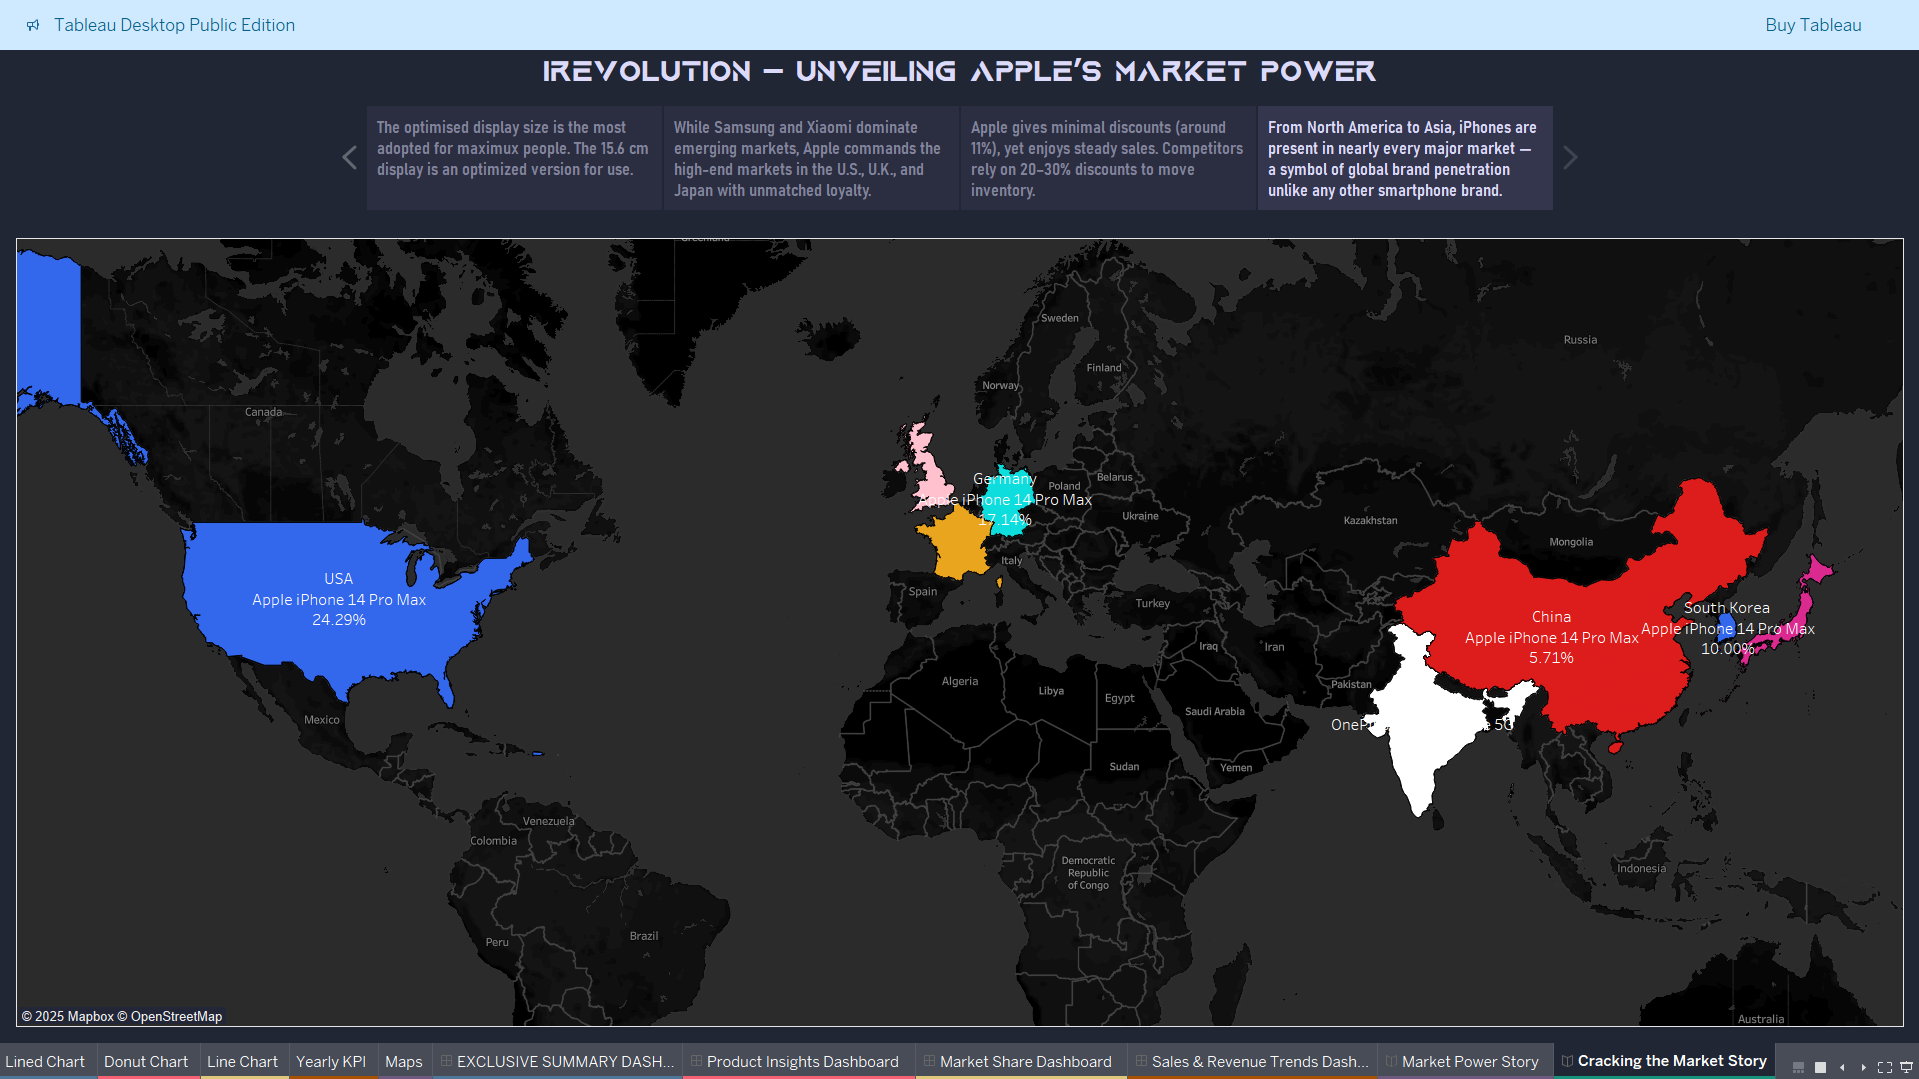

Layout of this report page (visuals, bound fields, positions):
{"tool":"tableau","page":{"name":"Market Share Dashboard","canvas":[1000,1000],"units":"permille","ordinal":1},"visuals":[{"type":"image","param":"Image/apple-logo-silver-gradient-background-ucqyu9mach40quya.png","box":[6.2,11.6,48,79]},{"type":"text","box":[56.6,12.8,947.7,81.3]},{"type":"filter","title":"Lined Chart","param":"[federated.1gce9tv0aggmgg1erib5s148nrbe].[none:Country:nk]","box":[796.3,73.2,99.4,62.7]},{"type":"filter","title":"Lined Chart","param":"[federated.1gce9tv0aggmgg1erib5s148nrbe].[none:Models:nk]","box":[897.5,76.7,99.4,58.1]},{"type":"worksheet","title":"Lined Chart","mark":"Automatic","rows":["Sales Share","Sales Share"],"cols":["Country","Models"],"box":[11.8,98.7,986.4,426.2]},{"type":"worksheet","title":"Maps","mark":"Multipolygon","box":[11.2,528.5,618.6,466.9]},{"type":"worksheet","title":"Bubble Chart","mark":"Circle","box":[635.4,538.9,359,457.6]}]}

Visuals, with their boxes on the dashboard's canvas, which has no fixed pixel size, in thousandths of its width and height (x1, y1, x2, y2). These are canvas units, not pixel positions in the 1919x1079 screenshot, which may show the page scaled, cropped or inside an application window:
image: l=6, t=12, r=54, b=91
text: l=57, t=13, r=1004, b=94
"Lined Chart" filter: l=796, t=73, r=896, b=136
"Lined Chart" filter: l=898, t=77, r=997, b=135
"Lined Chart" worksheet: l=12, t=99, r=998, b=525
"Maps" worksheet (Multipolygon marks): l=11, t=528, r=630, b=995
"Bubble Chart" worksheet (Circle marks): l=635, t=539, r=994, b=996
